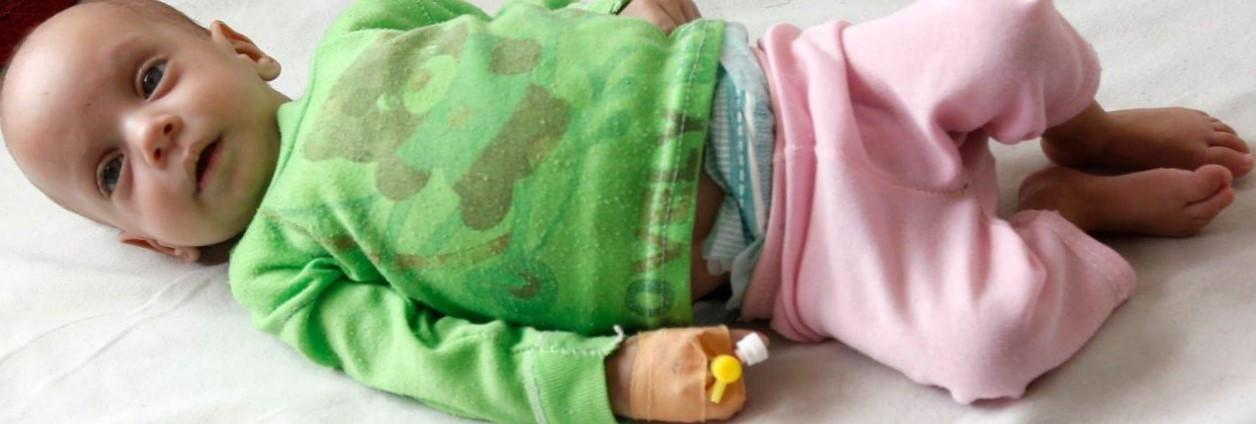Stunting: (0, 0, 279, 289)
